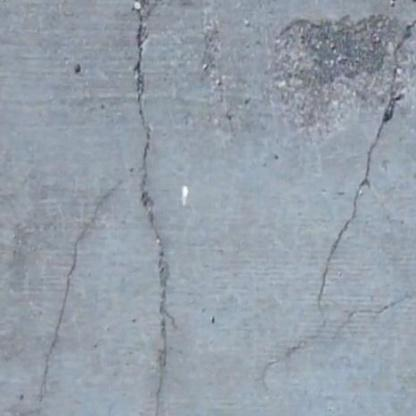Cracks: (252, 0, 416, 397), (28, 0, 181, 416)
